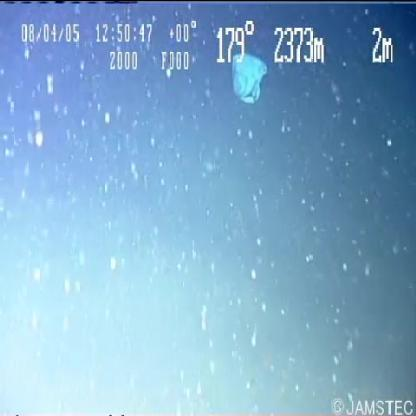Rác: (228, 43, 274, 108)
